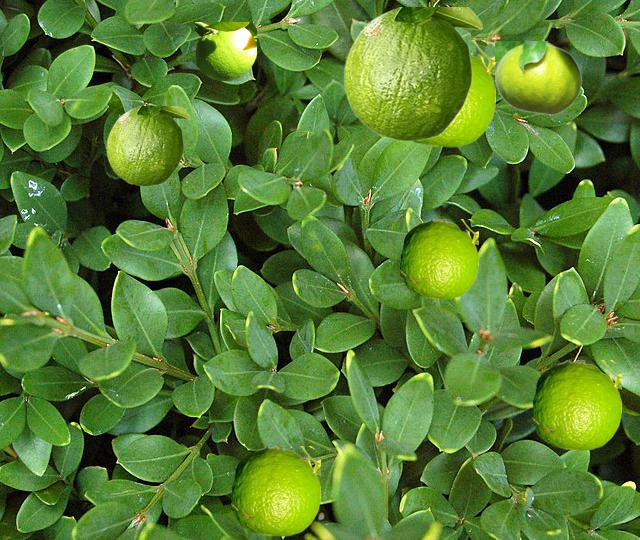dalandan: (343, 7, 482, 140), (411, 40, 494, 146), (231, 446, 319, 535), (532, 360, 620, 449), (106, 106, 189, 185), (495, 41, 581, 114), (400, 219, 477, 298), (195, 22, 255, 79)
